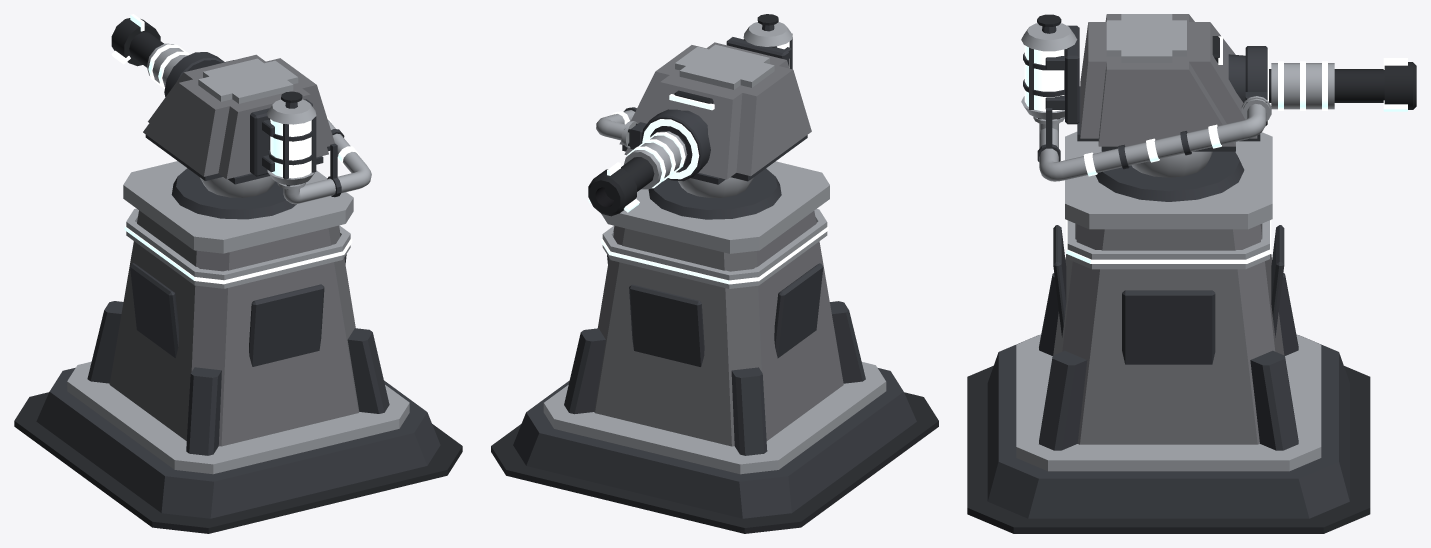
File: Tower_T2_Cryo.fbx
3 views of the same model, side by side, from view 1: azimuth 30°, elevation 25°; view 2: azimuth 150°, elevation 25°; view 3: azimuth 270°, elevation 25° (orthographic). The views are drawn at different scales.
Visible parts, largest first — view 1: CR_Core, CR_Base, CR_Base_Plate, CR_Turret_Hull, CR_Base_Skirt, CR_Collar, CR_Core_Plate_1, CR_Core_Band, CR_Rotation_Plate, CR_Turret_Roof, CR_Core_Plate_3, CR_Brace_2 (+13 smaller); view 2: CR_Core, CR_Base, CR_Turret_Hull, CR_Base_Plate, CR_Base_Skirt, CR_Collar, CR_Core_Plate_0, CR_Core_Band, CR_Rotation_Plate, CR_Turret_Roof, CR_Core_Plate_3, CR_Brace_1 (+13 smaller); view 3: CR_Core, CR_Base, CR_Turret_Hull, CR_Base_Plate, CR_Base_Skirt, CR_Collar, CR_Core_Plate_2, CR_Coolant_Pipe, CR_Rotation_Plate, CR_Core_Band, CR_Turret_Roof, CR_Brace_0 (+16 smaller).
Boxes of the visible parts, left/top/right/bottom form: CR_Core: left=109, top=210, right=359, bottom=446; CR_Base: left=36, top=367, right=440, bottom=518; CR_Base_Plate: left=67, top=361, right=409, bottom=474; CR_Turret_Hull: left=143, top=54, right=334, bottom=179; CR_Base_Skirt: left=14, top=392, right=462, bottom=533; CR_Collar: left=123, top=161, right=353, bottom=253; CR_Core_Plate_1: left=249, top=284, right=324, bottom=366; CR_Core_Band: left=126, top=208, right=350, bottom=288; CR_Rotation_Plate: left=171, top=168, right=296, bottom=219; CR_Turret_Roof: left=198, top=58, right=298, bottom=103; CR_Core_Plate_3: left=130, top=263, right=178, bottom=357; CR_Brace_2: left=186, top=367, right=221, bottom=455; CR_Core: left=594, top=211, right=843, bottom=446; CR_Base: left=513, top=368, right=916, bottom=518; CR_Turret_Hull: left=619, top=42, right=811, bottom=179; CR_Base_Plate: left=543, top=362, right=886, bottom=474; CR_Base_Skirt: left=491, top=392, right=938, bottom=533; CR_Collar: left=601, top=161, right=829, bottom=253; CR_Core_Plate_0: left=629, top=284, right=704, bottom=366; CR_Core_Band: left=602, top=209, right=827, bottom=288; CR_Rotation_Plate: left=648, top=168, right=781, bottom=219; CR_Turret_Roof: left=675, top=44, right=774, bottom=89; CR_Core_Plate_3: left=774, top=263, right=823, bottom=358; CR_Brace_1: left=731, top=367, right=767, bottom=455; CR_Core: left=1053, top=223, right=1284, bottom=444; CR_Base: left=987, top=335, right=1349, bottom=518; CR_Turret_Hull: left=1080, top=14, right=1257, bottom=146; CR_Base_Plate: left=1016, top=334, right=1321, bottom=471; CR_Base_Skirt: left=967, top=366, right=1370, bottom=533; CR_Collar: left=1065, top=131, right=1272, bottom=229; CR_Core_Plate_2: left=1122, top=290, right=1215, bottom=364; CR_Coolant_Pipe: left=1039, top=104, right=1266, bottom=181; CR_Rotation_Plate: left=1095, top=151, right=1244, bottom=201; CR_Core_Band: left=1067, top=220, right=1269, bottom=269; CR_Turret_Roof: left=1106, top=14, right=1186, bottom=62; CR_Brace_0: left=1250, top=350, right=1298, bottom=450.
Bounding box in the file's own units: 3.3 × 3.88 × 3.68.
